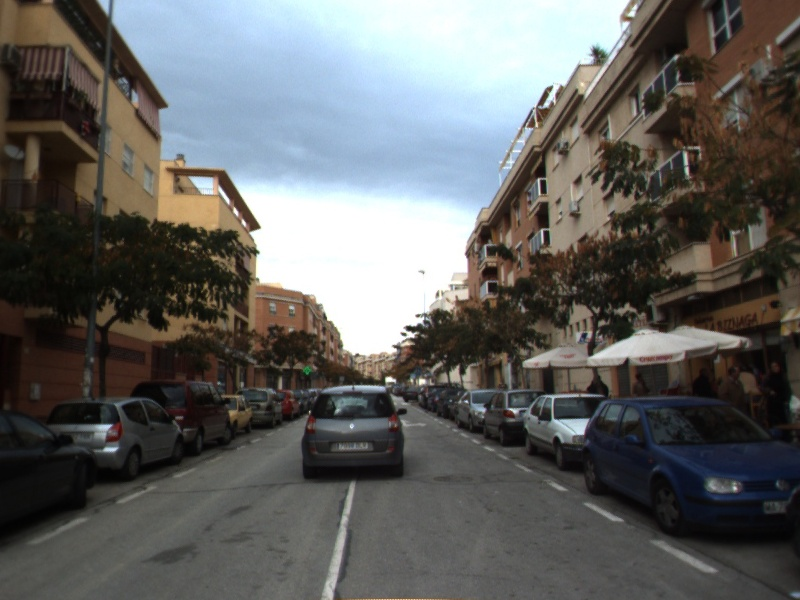STRAIGHT_RIGHT: (399, 418, 429, 430)
